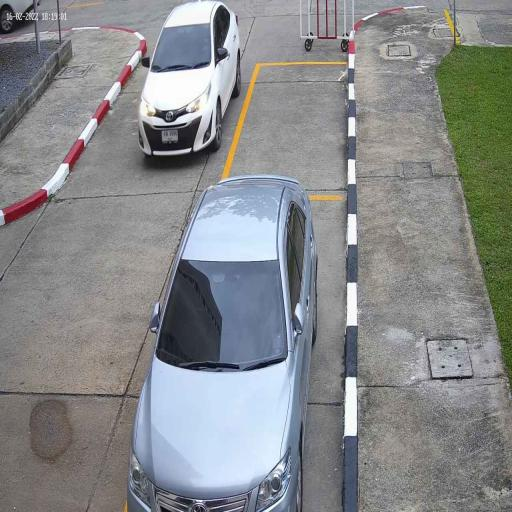car: (125, 173, 318, 512), (136, 0, 243, 163)
